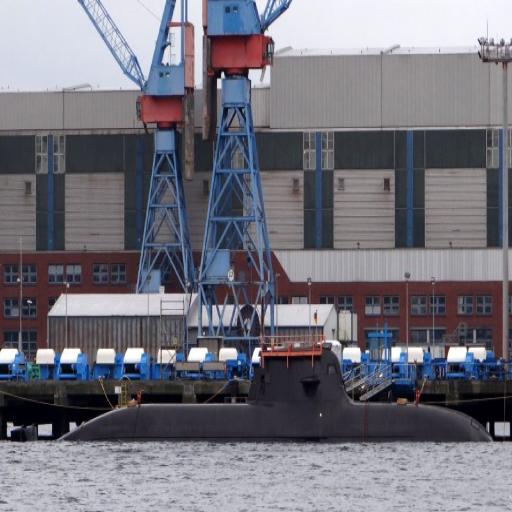submarine: (57, 348, 502, 441)
